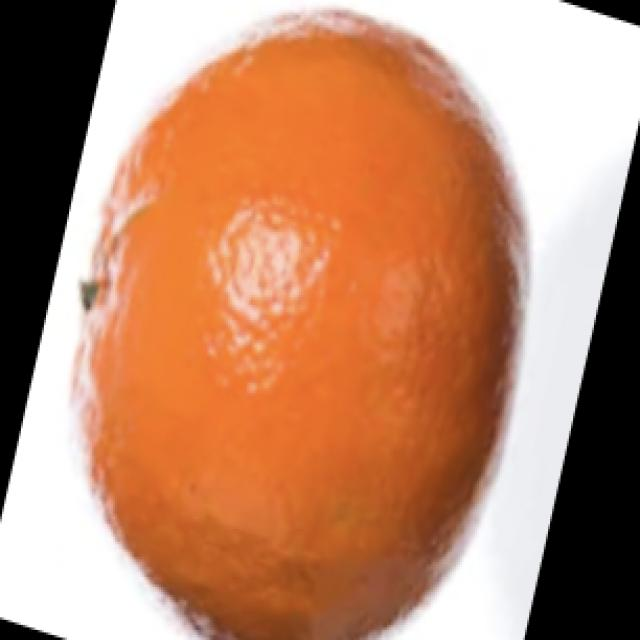fresh: (60, 7, 543, 640)
